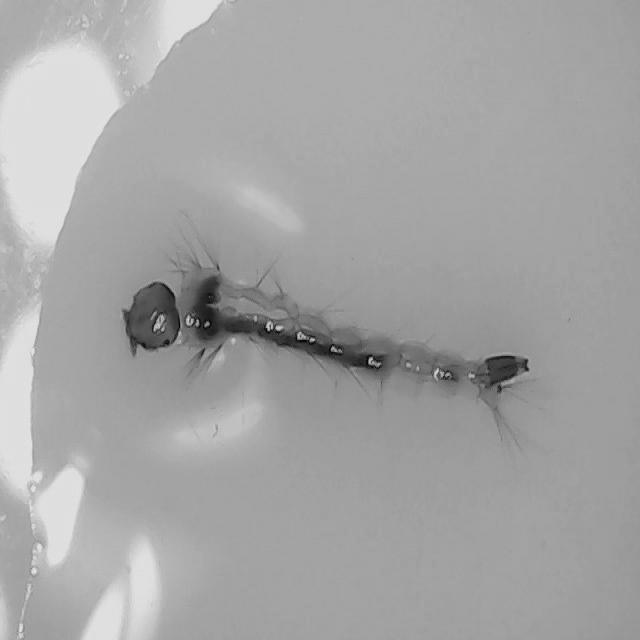larvas: (124, 270, 528, 405)
